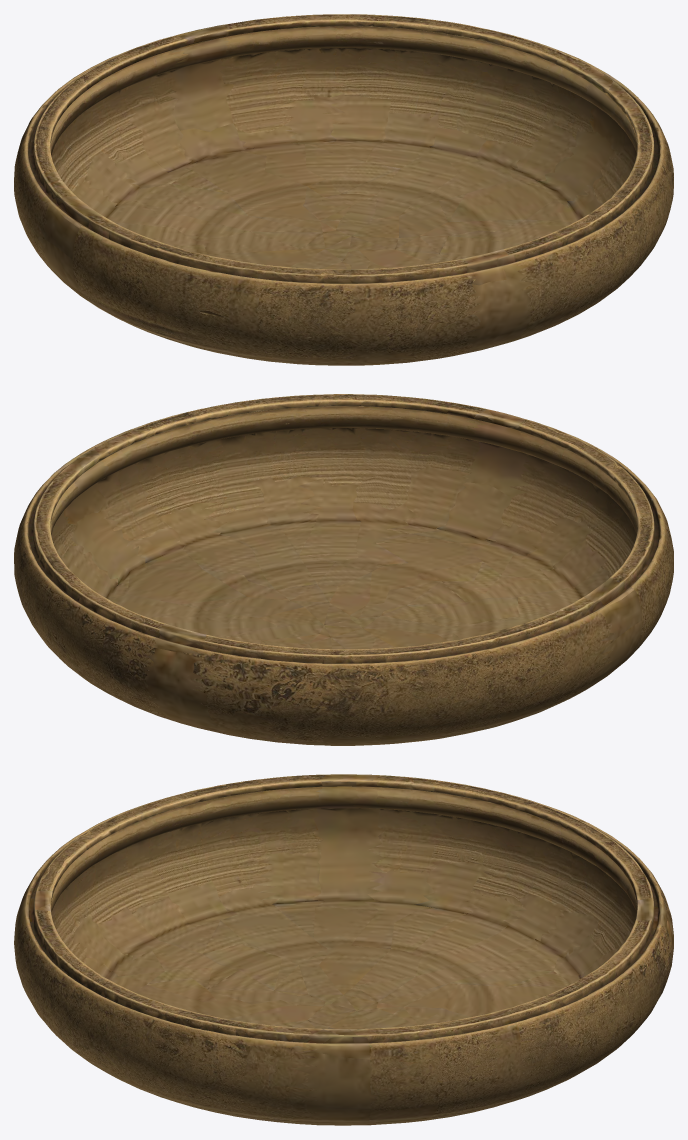
Rendered from reloj-tapa.glb.
The picture shows the model from 3 angles, top to bottom: view 1: azimuth 30°, elevation 25°; view 2: azimuth 150°, elevation 25°; view 3: azimuth 270°, elevation 25°; orthographic projection.
Bounding box in the file's own units: 1.9 × 0.3301 × 1.9.
Materials: 1 (1 with a texture image).
